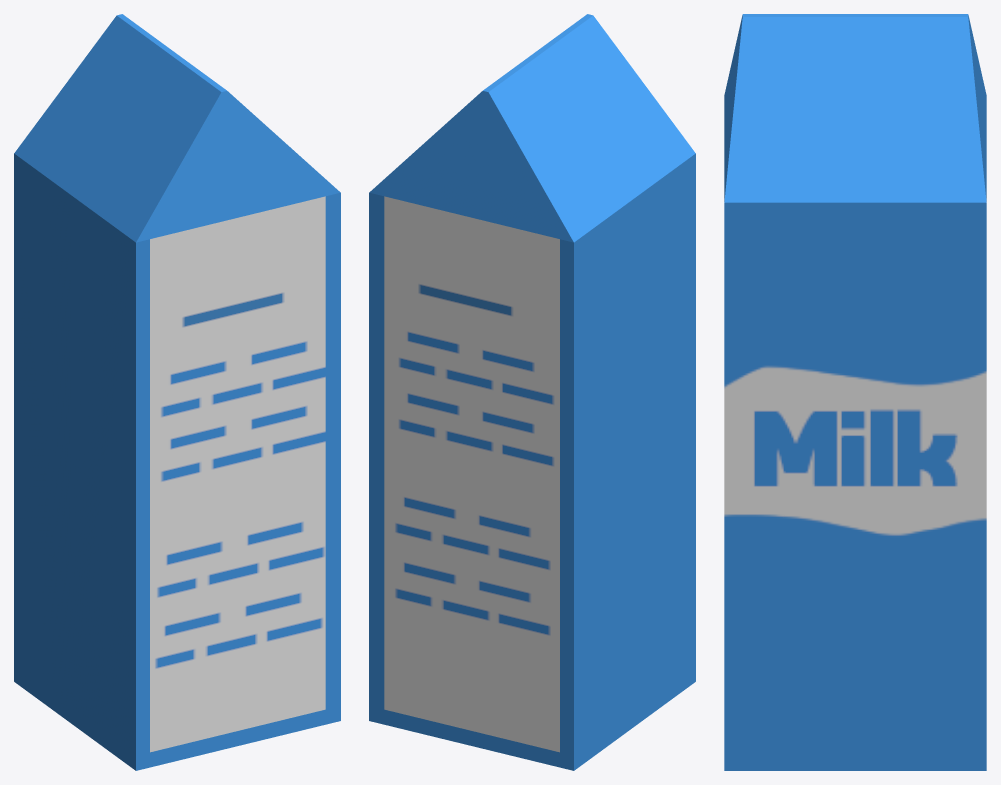
File: Milk-Lowpoly.fbx
3 views of the same model, side by side, from view 1: azimuth 30°, elevation 25°; view 2: azimuth 150°, elevation 25°; view 3: azimuth 270°, elevation 25° (orthographic). The views are drawn at different scales.
Visible parts, largest first — view 1: Milk; view 2: Milk; view 3: Milk.
Part boxes in pixels (left/top/right/bottom): Milk: left=14, top=14, right=340, bottom=770; Milk: left=369, top=14, right=695, bottom=770; Milk: left=724, top=14, right=986, bottom=770.
Size of the model in its own units: 40.53 by 123 by 41.77.
